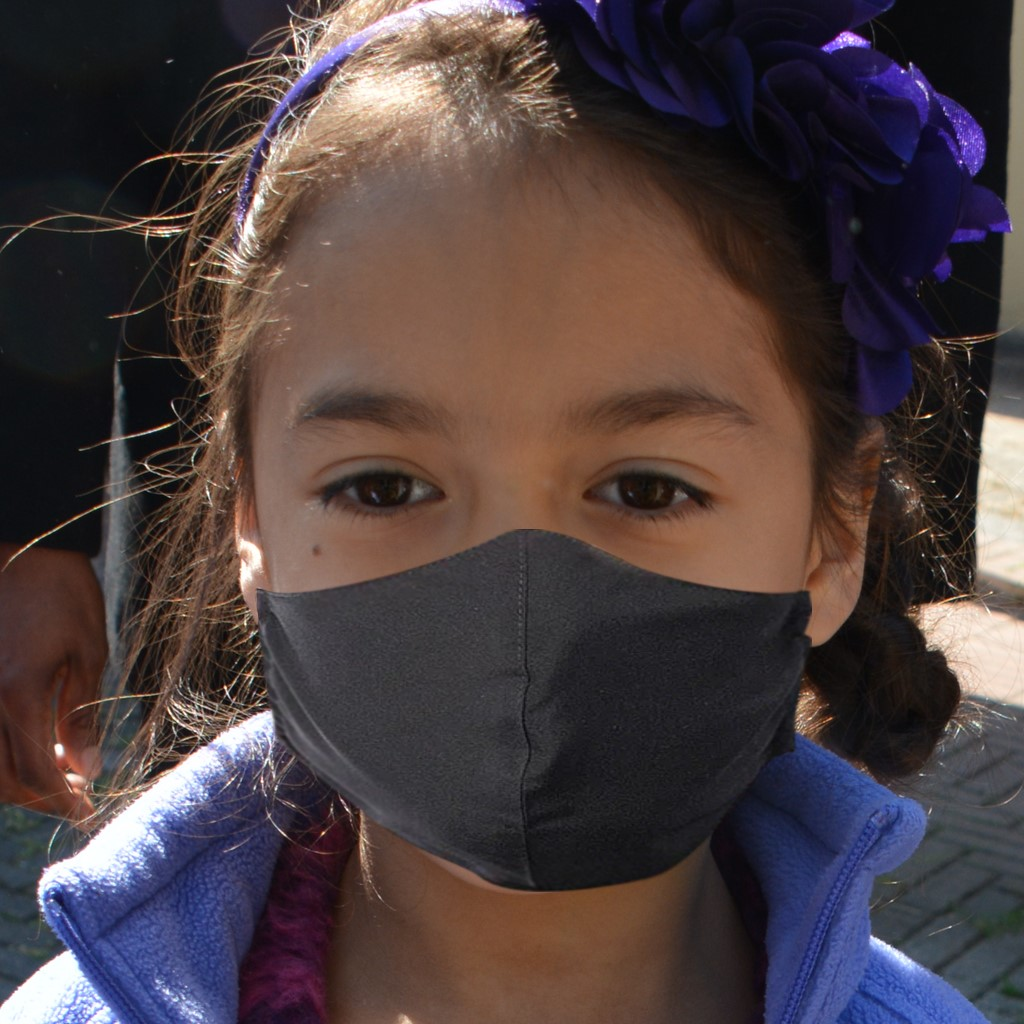con_mascara: (228, 141, 844, 882)
